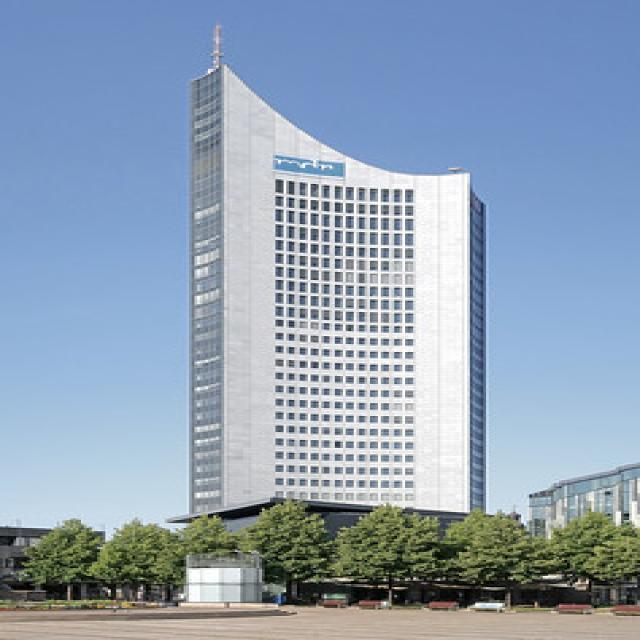building: (174, 62, 509, 530)
